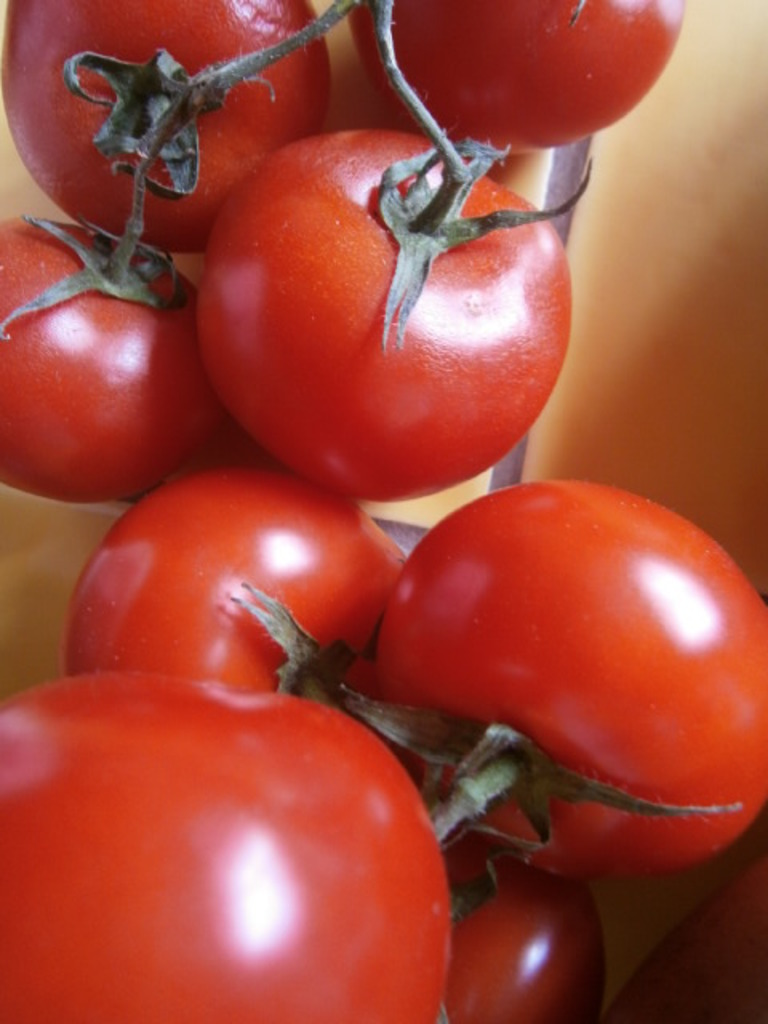Tomato: (0, 0, 768, 1024)
